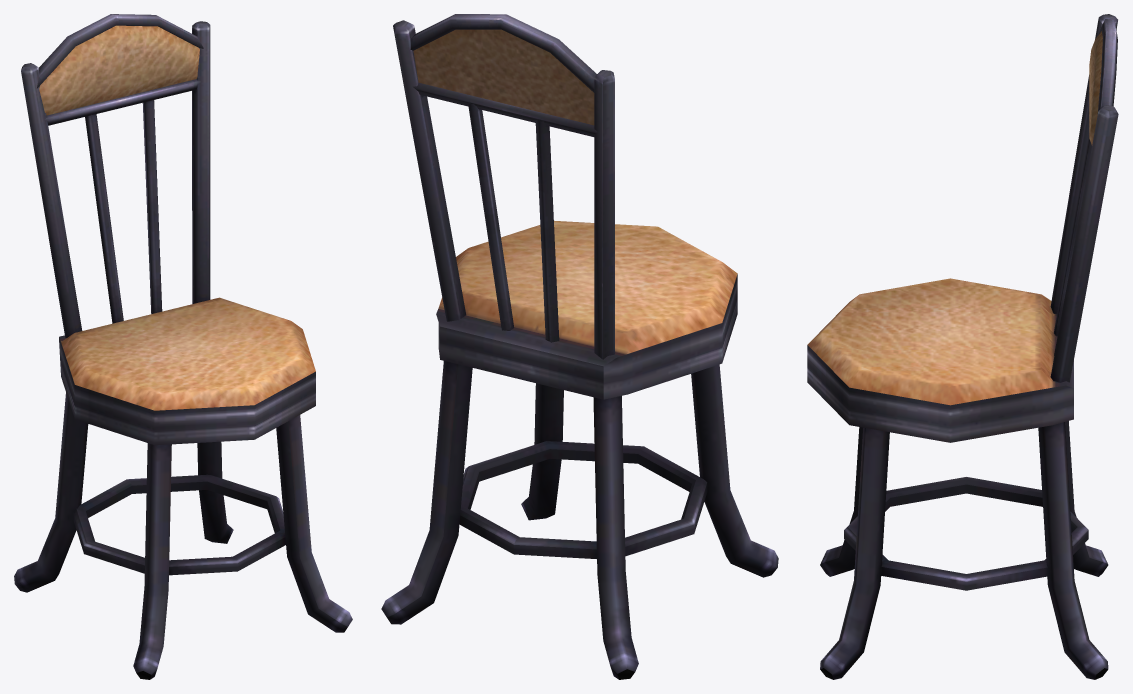
The model's file is furni_0200714.FBX.
The picture shows the model from 3 angles, left to right: view 1: azimuth 30°, elevation 25°; view 2: azimuth 150°, elevation 25°; view 3: azimuth 270°, elevation 25°; orthographic projection. The views are drawn at different scales.
Parts seen in each view (by area): view 1: furni_0200714; view 2: furni_0200714; view 3: furni_0200714.
Part boxes in pixels (x1,y1,x2,y2): furni_0200714: (14,14,352,679); furni_0200714: (381,14,778,679); furni_0200714: (807,14,1118,679).
Bounding box in the file's own units: 40 × 91.57 × 43.52.
Materials: 1 (1 with a texture image).
